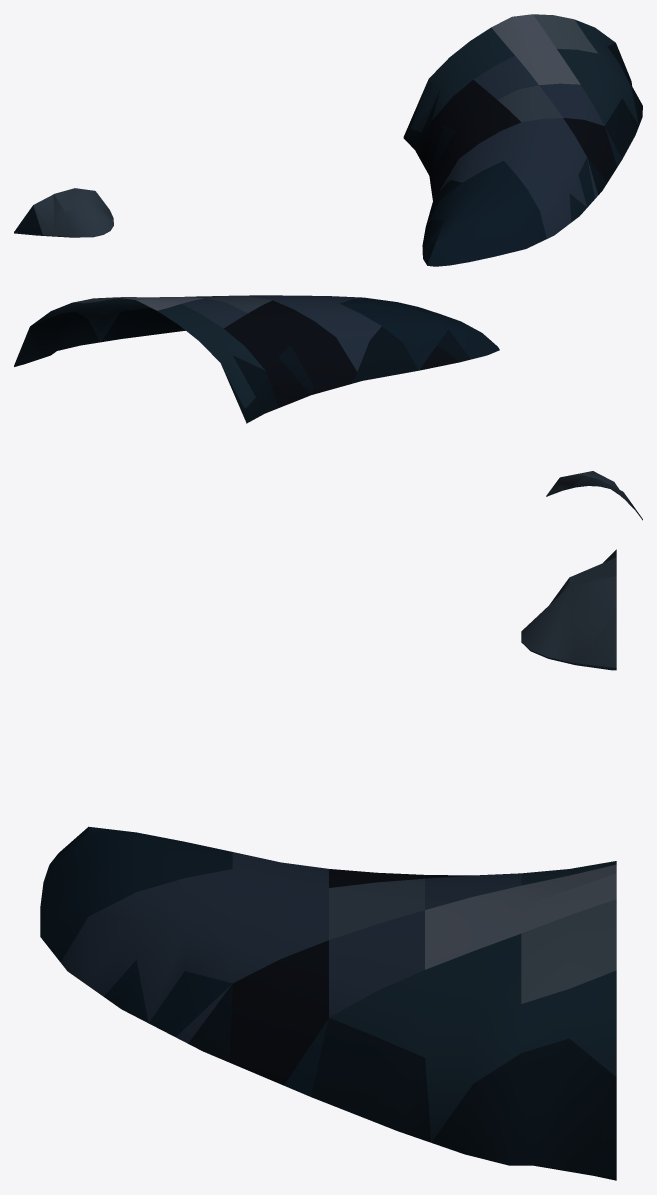
Rendered from gyges_pincer_47.glb.
3 renders of one model, top to bottom at view 1: azimuth 30°, elevation 25°; view 2: azimuth 150°, elevation 25°; view 3: azimuth 270°, elevation 25°, orthographic. The views are drawn at different scales.
Parts seen in each view (by area): view 1: gyges_pincer_47_pincer; view 2: gyges_pincer_47_pincer; view 3: gyges_pincer_47_pincer.
Part boxes in pixels (x1,y1,x2,y2): gyges_pincer_47_pincer: [14, 14, 642, 266]; gyges_pincer_47_pincer: [14, 295, 642, 520]; gyges_pincer_47_pincer: [40, 549, 616, 1180].
Size of the model in its own units: 14.83 by 2.18 by 5.99.
